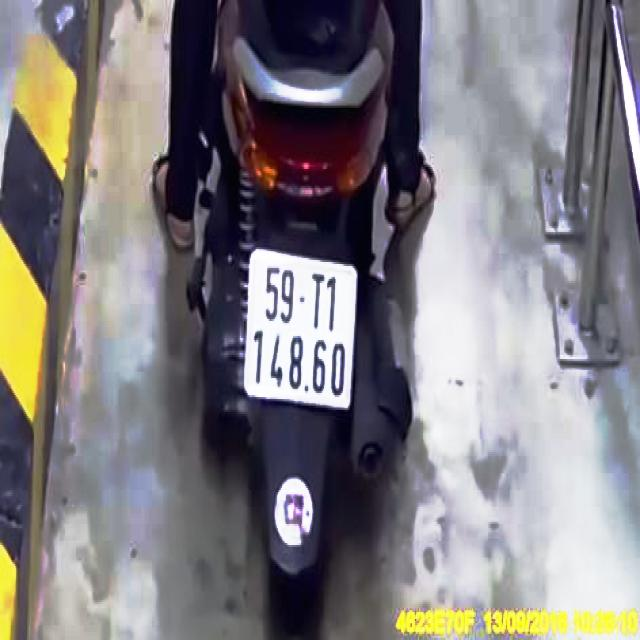license_plate: (248, 250, 359, 406)
